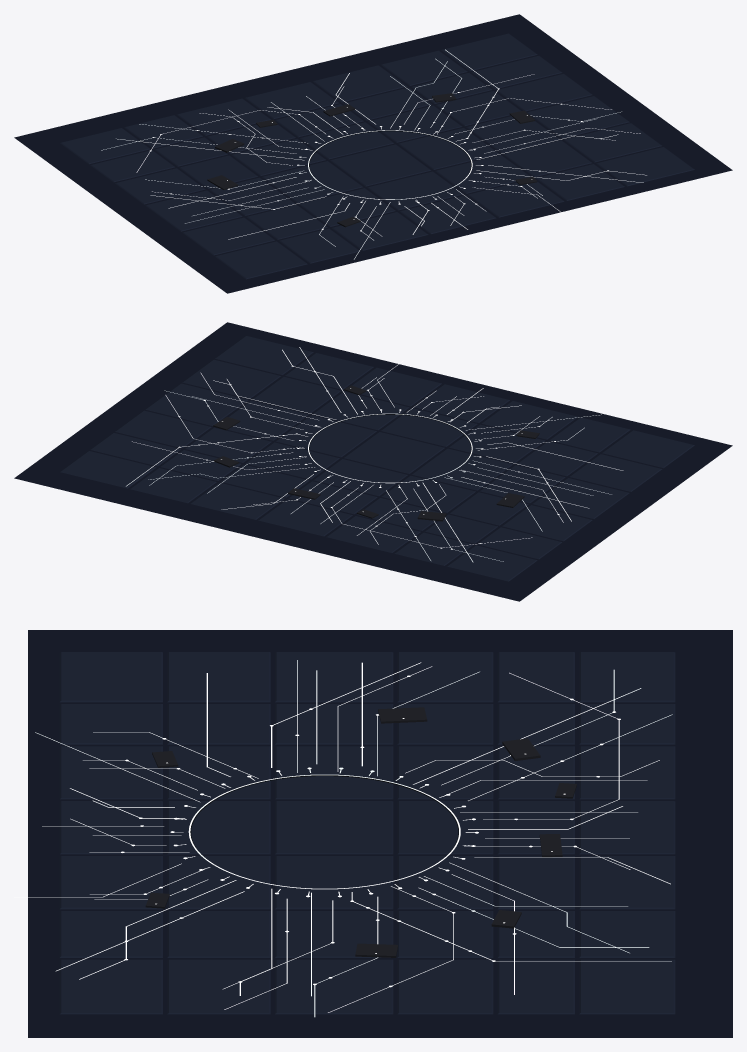
Rendered from BG_Circuit.glb.
The picture shows the model from 3 angles, top to bottom: view 1: azimuth 30°, elevation 25°; view 2: azimuth 150°, elevation 25°; view 3: azimuth 270°, elevation 25°; orthographic projection. The views are drawn at different scales.
Visible parts, largest first — view 1: BG_Circuit_Panels, BG_Circuit_Substrate, BG_CircuitTraces, BG_Circuit_Chips, BG_CircuitPulse, BG_Circuit_HubBezel; view 2: BG_Circuit_Panels, BG_Circuit_Substrate, BG_CircuitTraces, BG_Circuit_Chips, BG_CircuitPulse, BG_Circuit_HubBezel; view 3: BG_Circuit_Panels, BG_Circuit_Substrate, BG_CircuitTraces, BG_Circuit_Chips, BG_CircuitPulse, BG_Circuit_HubBezel, BG_Circuit_Vias.
Part boxes in pixels (x1,y1,x2,y2): BG_Circuit_Panels: [60, 33, 694, 279]; BG_Circuit_Substrate: [14, 14, 732, 293]; BG_CircuitTraces: [101, 58, 640, 259]; BG_Circuit_Chips: [207, 93, 537, 227]; BG_CircuitPulse: [116, 49, 646, 239]; BG_Circuit_HubBezel: [308, 130, 472, 199]; BG_Circuit_Panels: [60, 336, 694, 581]; BG_Circuit_Substrate: [14, 322, 732, 601]; BG_CircuitTraces: [132, 360, 611, 561]; BG_Circuit_Chips: [213, 385, 539, 521]; BG_CircuitPulse: [126, 347, 623, 562]; BG_Circuit_HubBezel: [308, 413, 472, 483]; BG_Circuit_Panels: [59, 652, 675, 1014]; BG_Circuit_Substrate: [28, 630, 732, 1037]; BG_CircuitTraces: [14, 660, 672, 1017]; BG_Circuit_Chips: [145, 707, 576, 957]; BG_CircuitPulse: [42, 662, 671, 995]; BG_Circuit_HubBezel: [188, 774, 460, 889]; BG_Circuit_Vias: [121, 675, 620, 987].
Size of the model in its own units: 26 by 0.1165 by 19.37.
